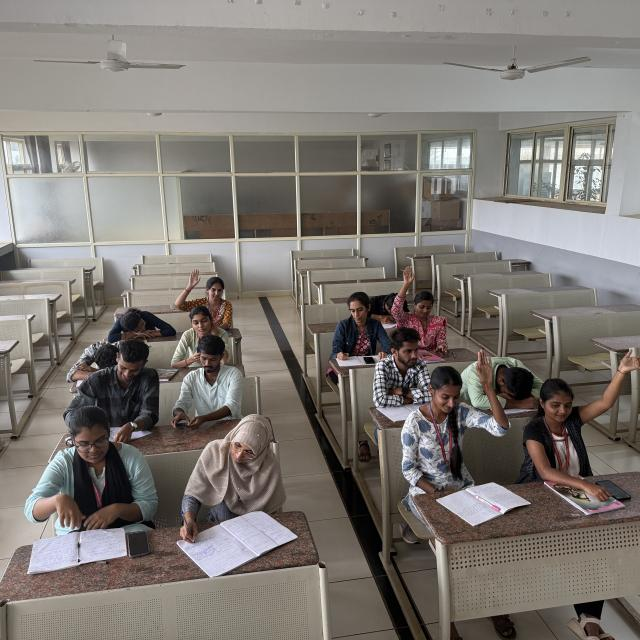Hand Rising: (521, 326, 640, 477), (409, 349, 508, 461), (395, 267, 448, 341), (172, 268, 232, 325)
Sleeping: (485, 348, 545, 413), (60, 332, 123, 386), (108, 303, 178, 342), (365, 285, 406, 326)
Using Phone: (172, 304, 225, 368)
Writing: (177, 419, 299, 556), (332, 290, 382, 364)
